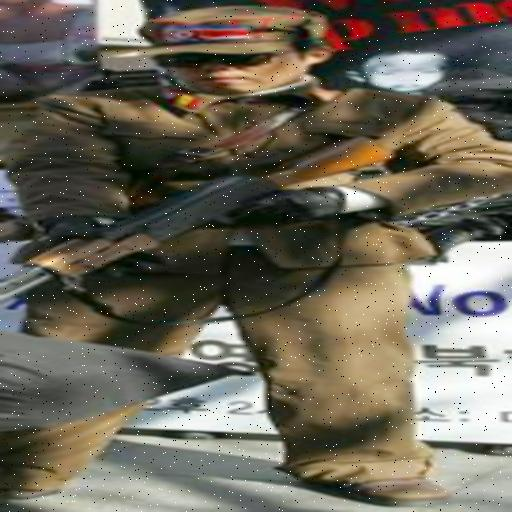north army: (14, 8, 473, 512)
